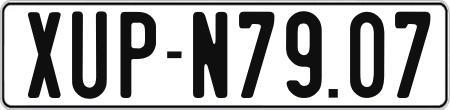0: (350, 9, 387, 101)
7: (239, 11, 279, 98), (392, 12, 428, 98)
9: (284, 10, 324, 98)
N: (192, 11, 228, 97)
P: (121, 12, 160, 104)
U: (70, 10, 106, 101)
X: (26, 10, 60, 100)
